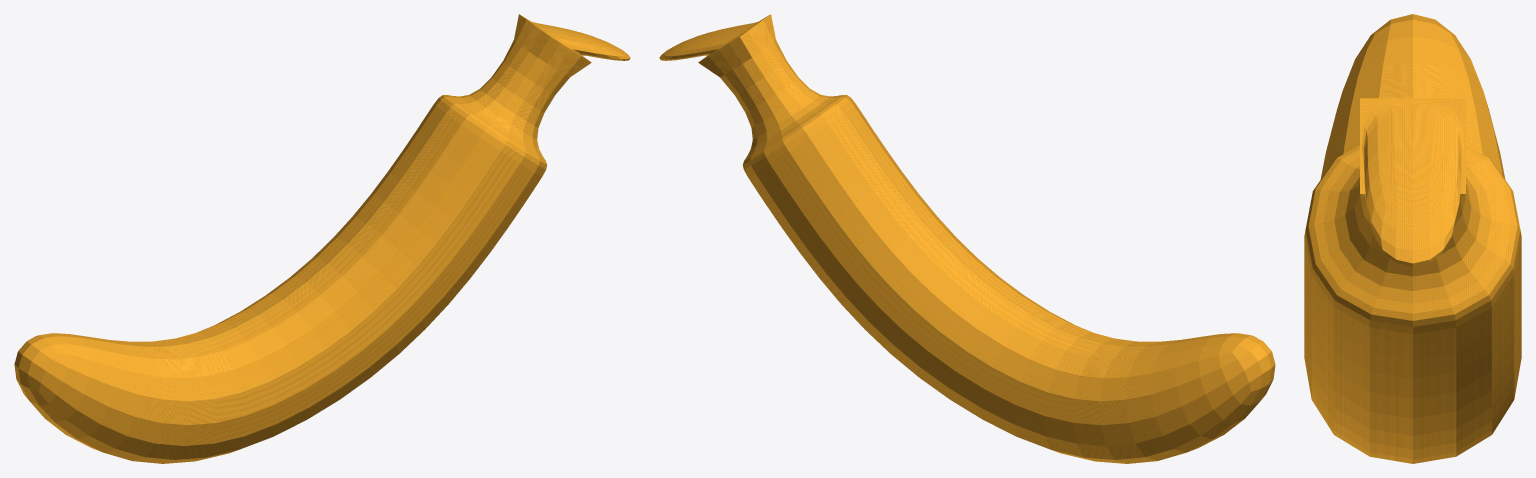
The model's file is buah3.fbx.
The picture shows the model from 3 angles, left to right: view 1: azimuth 30°, elevation 25°; view 2: azimuth 150°, elevation 25°; view 3: azimuth 270°, elevation 25°; orthographic projection. The views are drawn at different scales.
Visible parts, largest first — view 1: Cube; view 2: Cube; view 3: Cube.
Part boxes in pixels (x1,y1,x2,y2): Cube: [14, 14, 630, 463]; Cube: [659, 14, 1275, 463]; Cube: [1304, 14, 1521, 463].
Bounding box in the file's own units: 385 × 208 × 69.99.
1 material, 1 textured.
